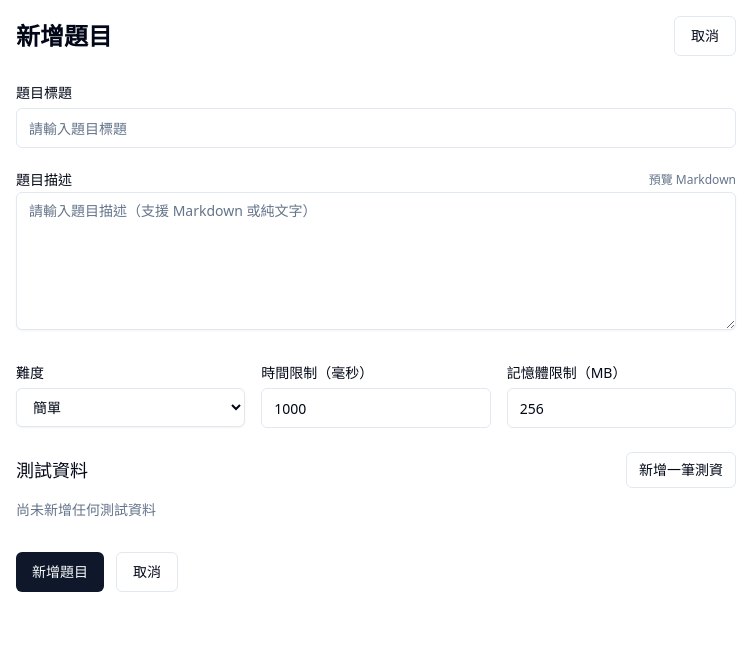
ProblemFormPage › no test cases blocks submit and shows Chinese validation error
// 填寫標題但不新增測資
Type "有標題但沒測資" into the field with placeholder "請輸入題目標題" at (376, 128), box [16,108,736,148]
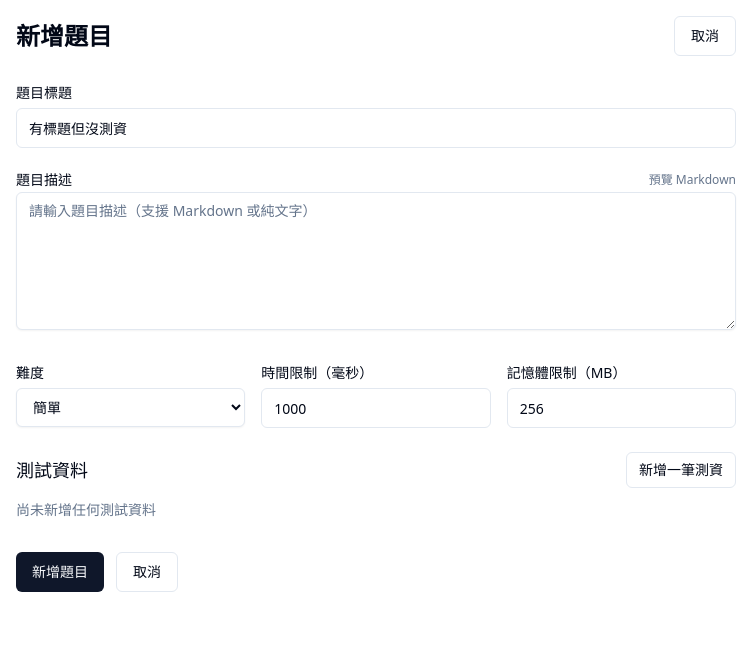
Click the button "新增題目" at (60, 572), box [16,552,104,592]
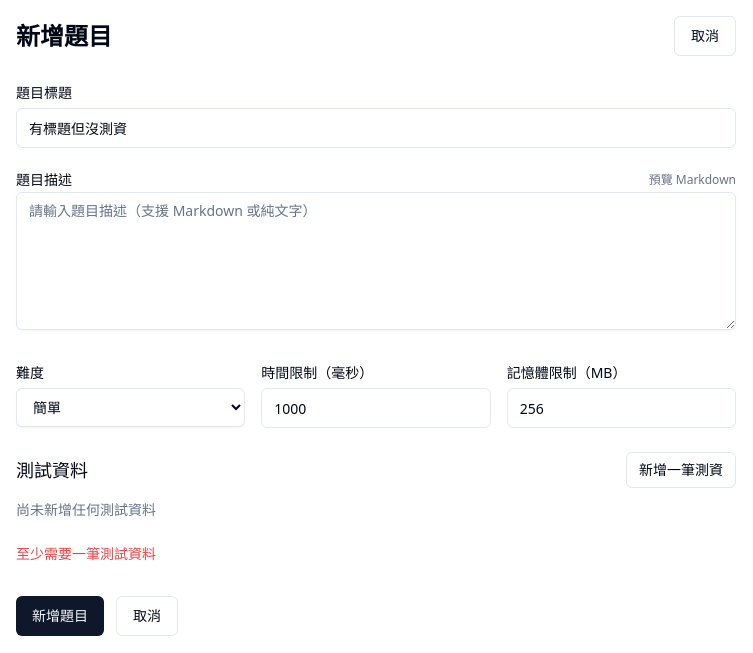
Result: the text "至少需要一筆測試資料" is shown at [16,544,156,563]
